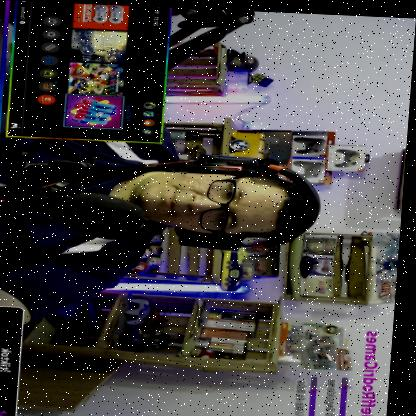streamer: (0, 49, 333, 365)
